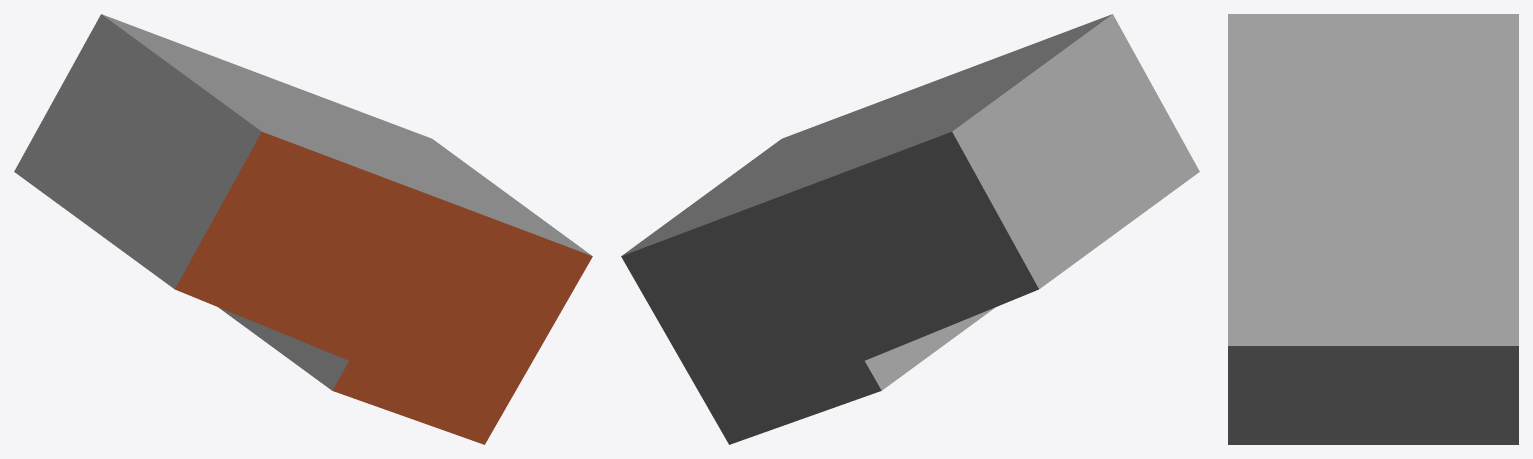
File: construction_5954_assumed_A_Casa_h6m.obj
3 views of the same model, side by side, from view 1: azimuth 30°, elevation 25°; view 2: azimuth 150°, elevation 25°; view 3: azimuth 270°, elevation 25° (orthographic). The views are drawn at different scales.
Parts seen in each view (by area): view 1: construction_5954_assumed_A_Casa; view 2: construction_5954_assumed_A_Casa; view 3: construction_5954_assumed_A_Casa.
Part boxes in pixels (bbox=[...]): construction_5954_assumed_A_Casa: bbox=[14, 14, 592, 444]; construction_5954_assumed_A_Casa: bbox=[621, 14, 1199, 444]; construction_5954_assumed_A_Casa: bbox=[1228, 14, 1518, 444].
Size of the model in its own units: 9.01 by 7.57 by 6.
